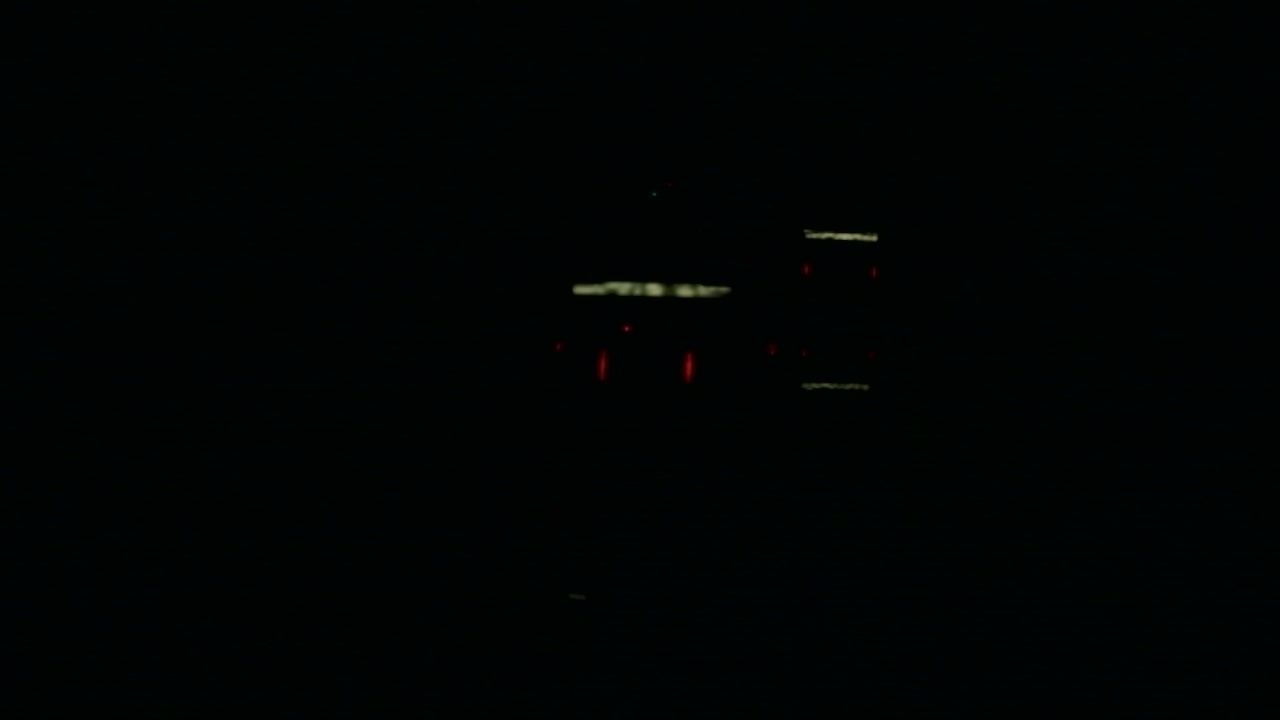lamp: (683, 345, 693, 382), (600, 345, 607, 381), (798, 259, 805, 283), (873, 262, 880, 281)
pair1: (599, 348, 693, 382)
pair2: (800, 262, 879, 282)
